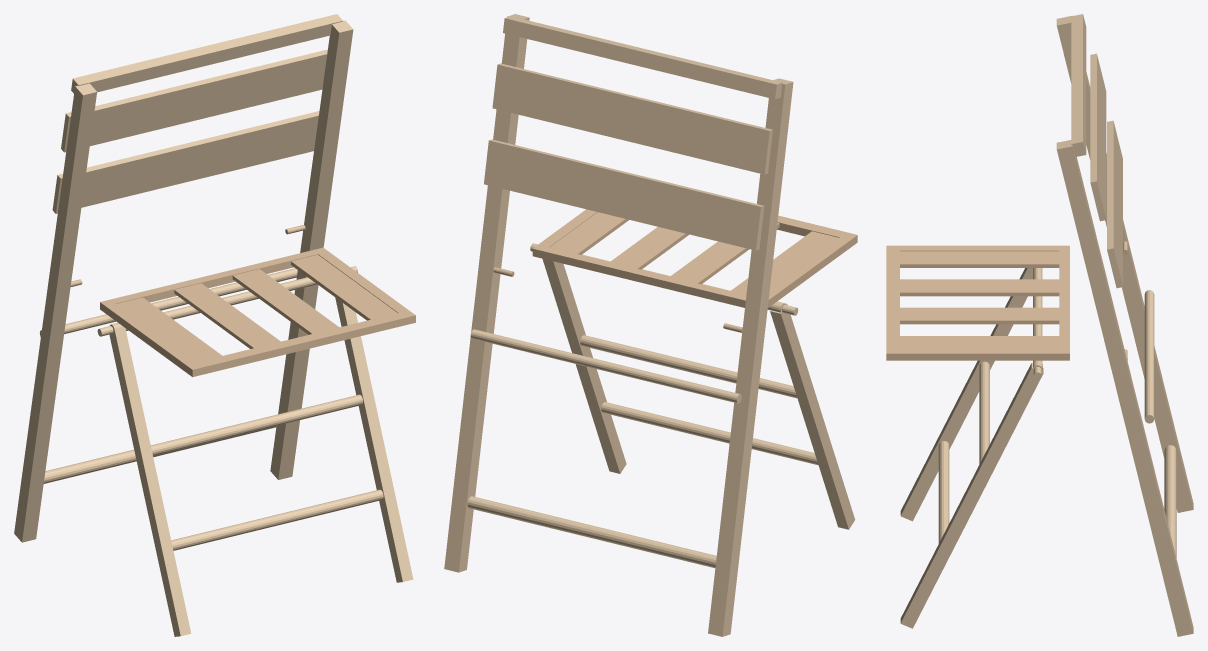
The picture shows the model from 3 angles, left to right: view 1: azimuth 30°, elevation 25°; view 2: azimuth 150°, elevation 25°; view 3: azimuth 270°, elevation 25°; orthographic projection. The views are drawn at different scales.
Parts seen in each view (by area): view 1: main_frame, seat, front_leg_frame; view 2: main_frame, front_leg_frame, seat; view 3: main_frame, seat, front_leg_frame.
Boxes of the visible parts, <box> form: main_frame: <box>14,14,357,542</box>; seat: <box>70,225,415,377</box>; front_leg_frame: <box>109,277,413,636</box>; main_frame: <box>444,14,798,636</box>; front_leg_frame: <box>542,254,855,529</box>; seat: <box>493,209,857,332</box>; main_frame: <box>1033,14,1193,636</box>; seat: <box>886,241,1127,360</box>; front_leg_frame: <box>900,268,1043,628</box>.
Bounding box in the file's own units: 0.46 × 0.8119 × 0.4567.
